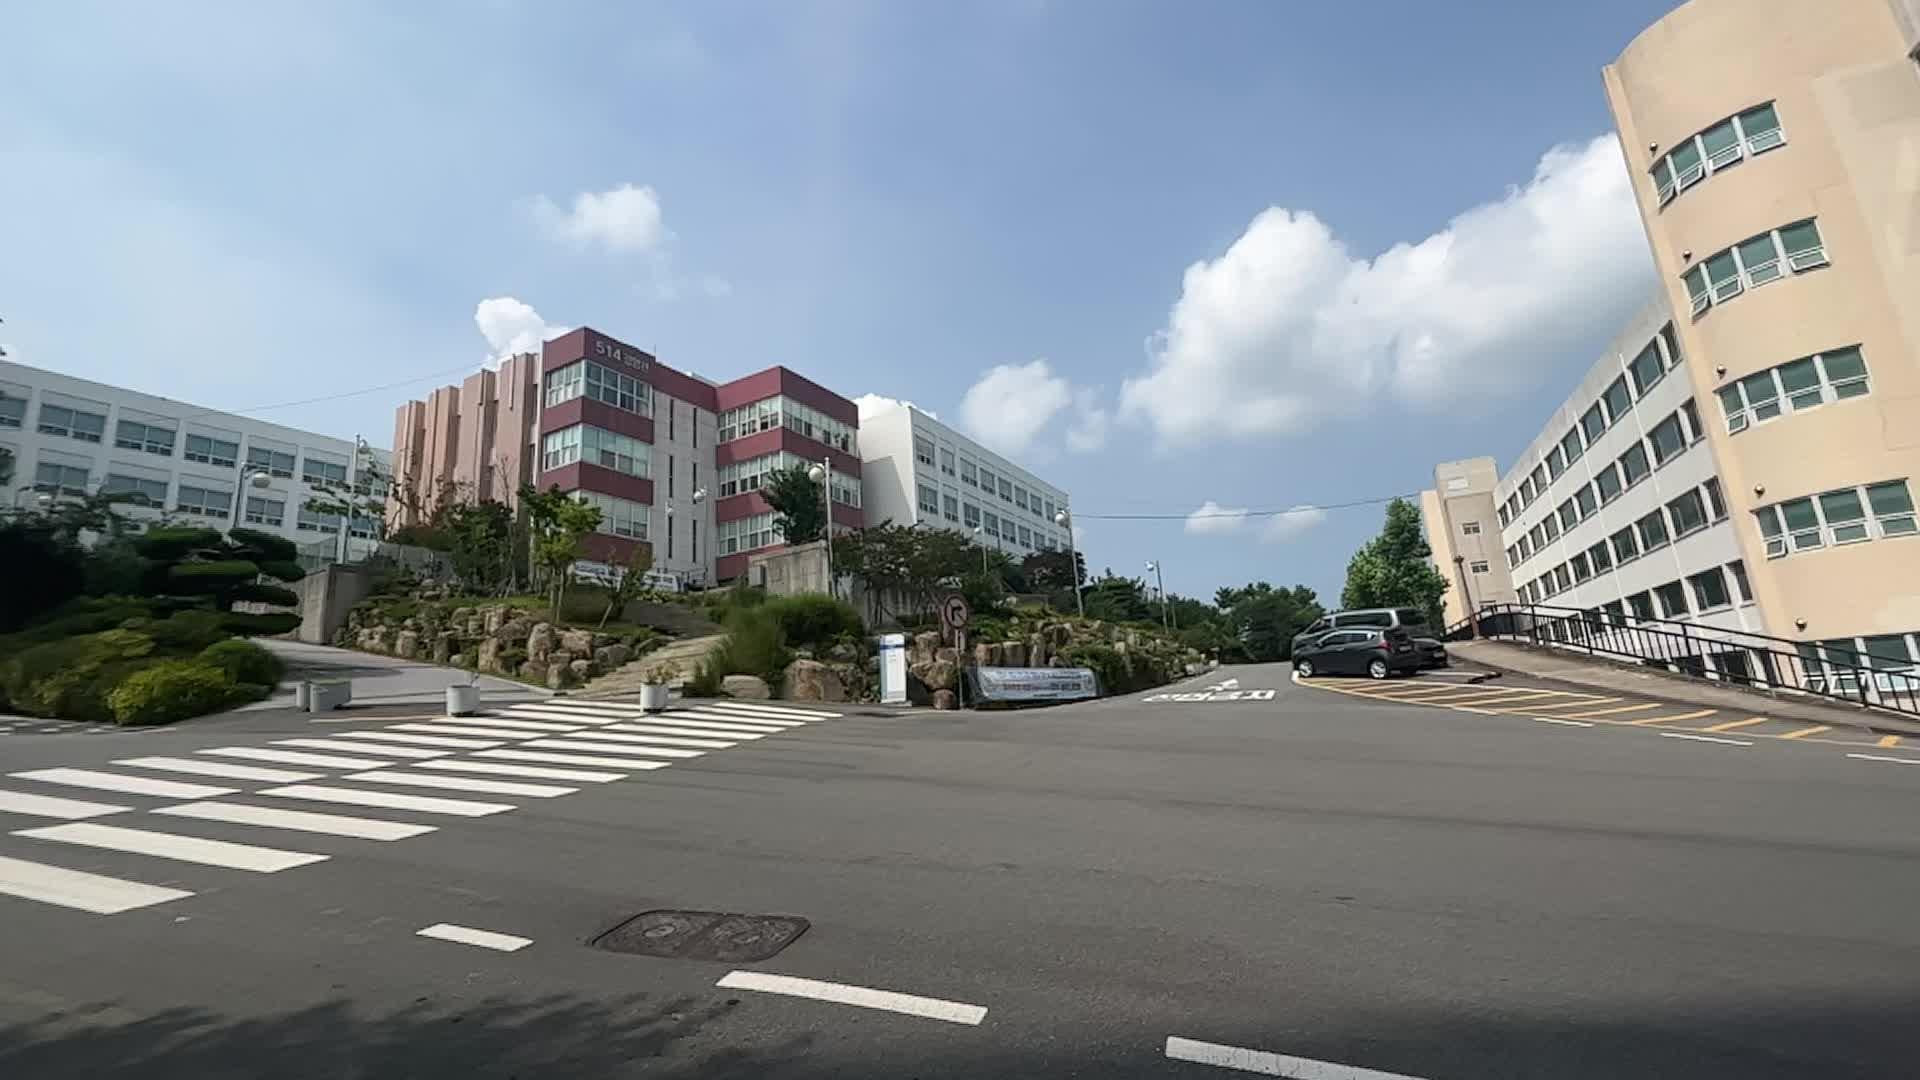building: (377, 311, 1075, 550)
